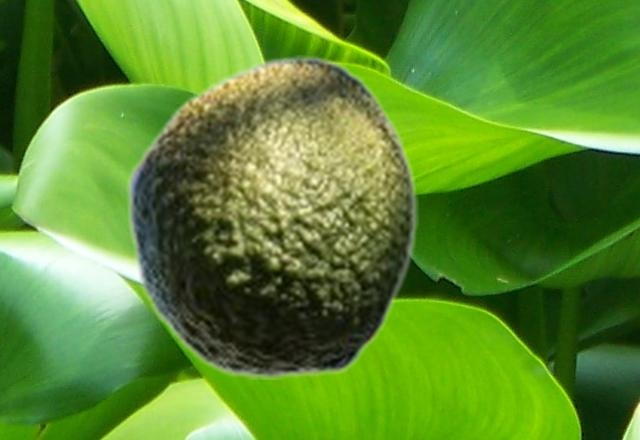avocado: (125, 55, 417, 378)
